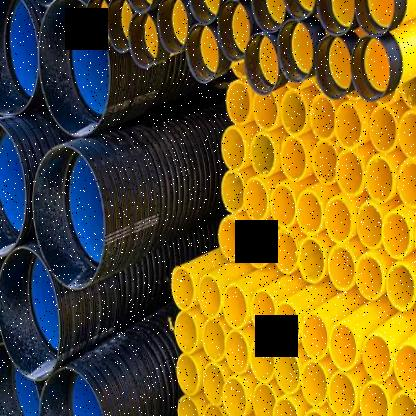pipe: (32, 145, 106, 290), (37, 0, 111, 136), (0, 245, 60, 381), (0, 0, 38, 115), (0, 118, 27, 258), (38, 366, 107, 416), (0, 340, 43, 415), (351, 36, 391, 100), (314, 36, 352, 100), (277, 19, 314, 82), (245, 33, 280, 95), (218, 1, 250, 61), (127, 10, 160, 68), (186, 25, 218, 84), (157, 0, 188, 54), (354, 0, 396, 36), (386, 262, 416, 311), (362, 334, 392, 382), (107, 0, 134, 52), (317, 0, 355, 36), (336, 150, 365, 197), (381, 212, 410, 259), (366, 155, 394, 203), (329, 323, 357, 371), (369, 106, 396, 154), (356, 253, 383, 301), (280, 136, 308, 182), (296, 190, 324, 236), (324, 197, 352, 243), (85, 0, 110, 51), (328, 371, 356, 416), (334, 102, 361, 148), (298, 238, 325, 284), (328, 245, 355, 291), (301, 314, 328, 360), (312, 139, 338, 185), (357, 203, 383, 249), (274, 303, 300, 349), (281, 91, 308, 135), (250, 0, 286, 33), (274, 349, 300, 394), (302, 362, 328, 407), (219, 216, 244, 262), (250, 132, 276, 176), (273, 229, 298, 274), (250, 290, 275, 335), (310, 96, 336, 139), (393, 344, 416, 392), (271, 184, 296, 228), (224, 330, 249, 374), (222, 126, 246, 171), (244, 176, 268, 221), (171, 266, 195, 311), (224, 284, 248, 329), (226, 81, 250, 125), (244, 224, 268, 268), (198, 274, 222, 318), (174, 311, 198, 355), (202, 318, 226, 362), (250, 338, 274, 382), (396, 158, 416, 209), (360, 383, 390, 416), (202, 363, 225, 406), (252, 92, 278, 130), (222, 170, 244, 214), (222, 376, 246, 416), (177, 353, 199, 395), (397, 111, 416, 159), (252, 384, 276, 416), (389, 391, 416, 416), (273, 396, 299, 416), (177, 396, 200, 416), (201, 402, 225, 416)
